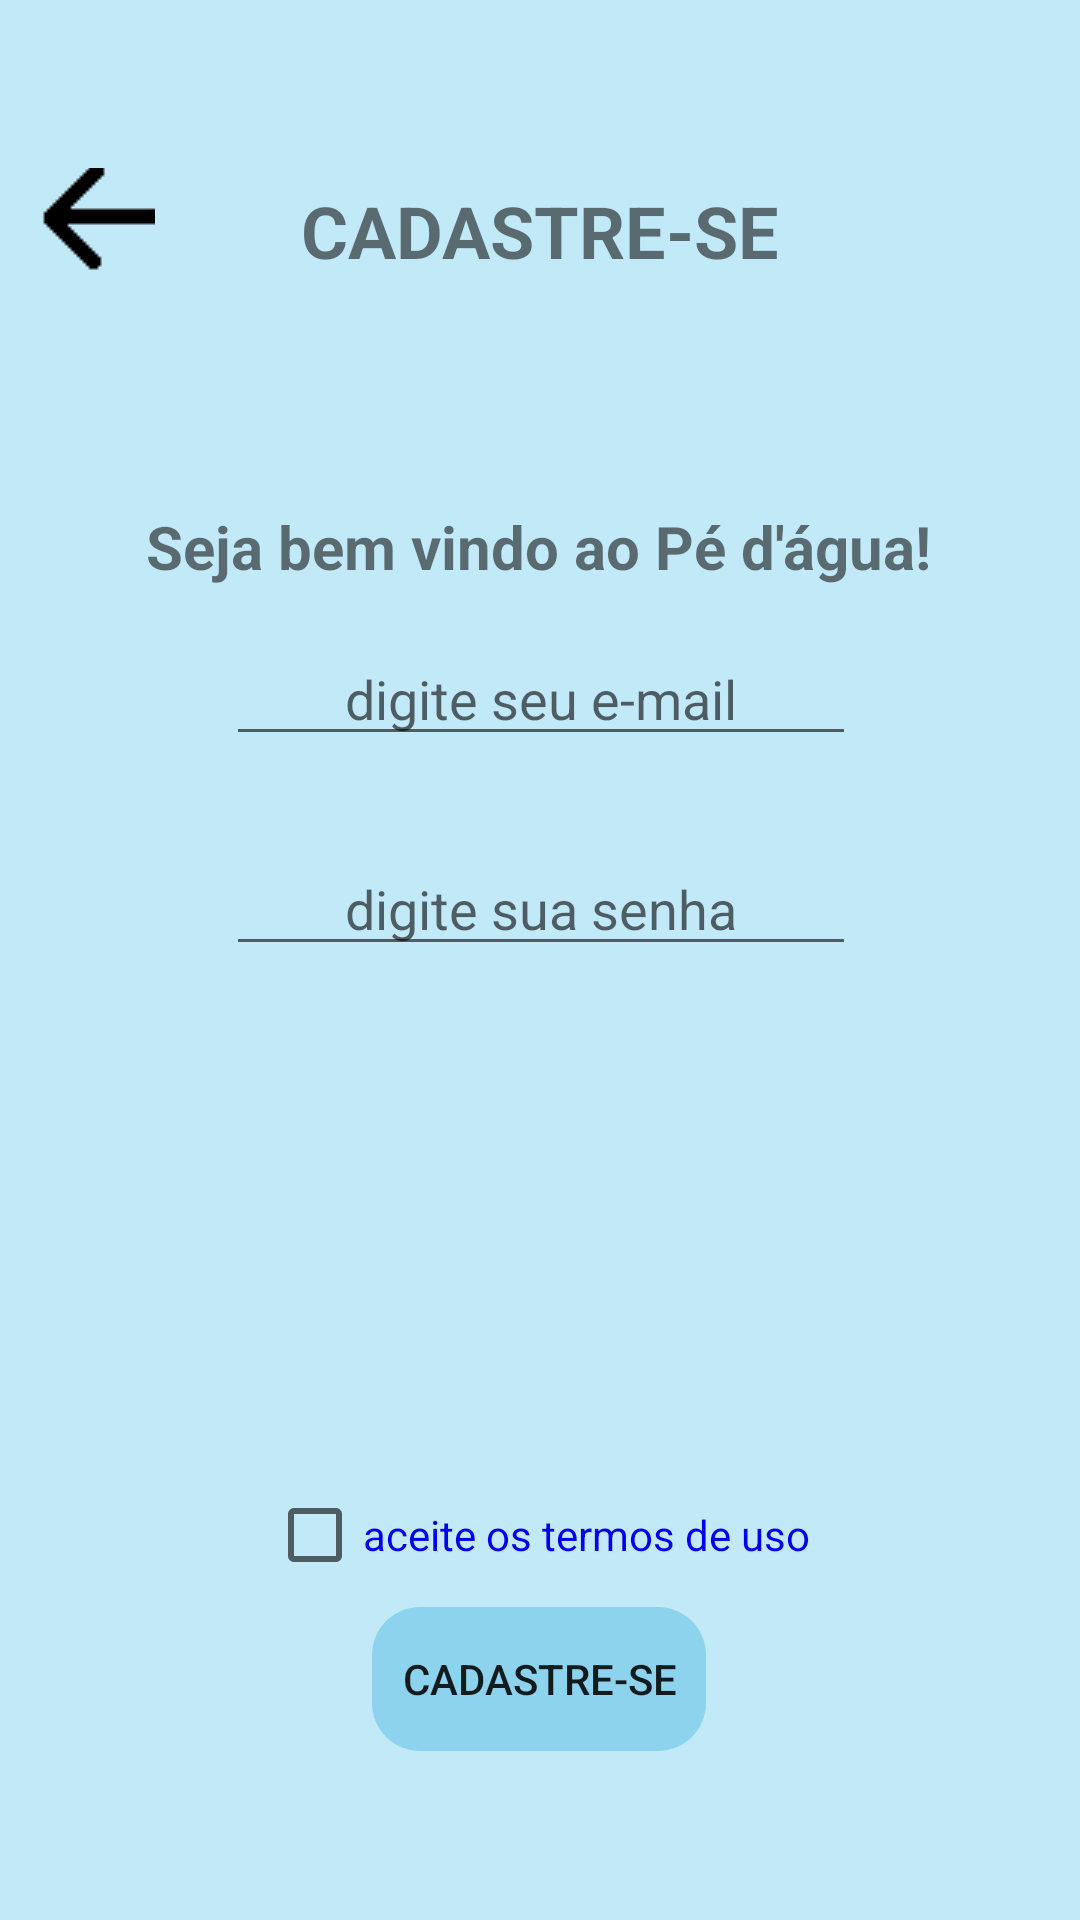

Screen size 1080×1920. Icon name, then its center in pixels as (x,y):
seta: (99,219)
